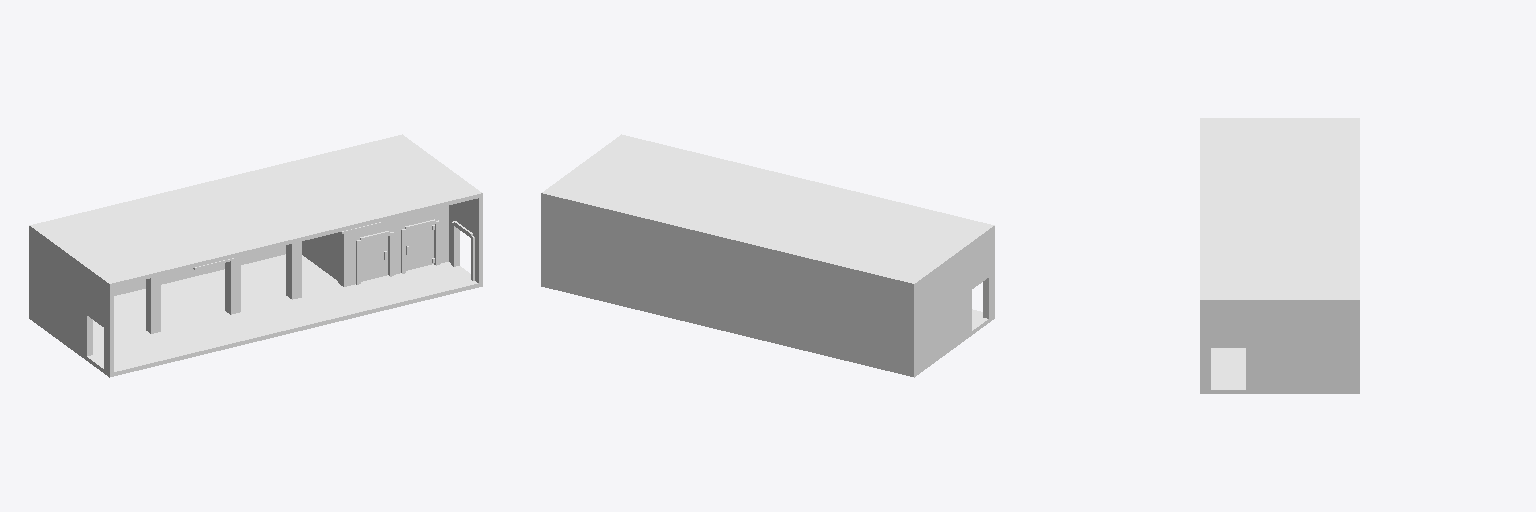
Rendered from Volt-5-Cazarma_1lvl.obj.
The picture shows the model from 3 angles: view 1: azimuth 30°, elevation 25°; view 2: azimuth 150°, elevation 25°; view 3: azimuth 270°, elevation 25°; orthographic projection.
Parts seen in each view (by area): view 1: Cazarma_1lvl; view 2: Cazarma_1lvl; view 3: Cazarma_1lvl.
Boxes of the visible parts, x1=… form: Cazarma_1lvl: x1=29, y1=134, x2=482, y2=377; Cazarma_1lvl: x1=541, y1=134, x2=994, y2=377; Cazarma_1lvl: x1=1200, y1=118, x2=1359, y2=393.
Size of the model in its own units: 18.8 by 4.5 by 7.